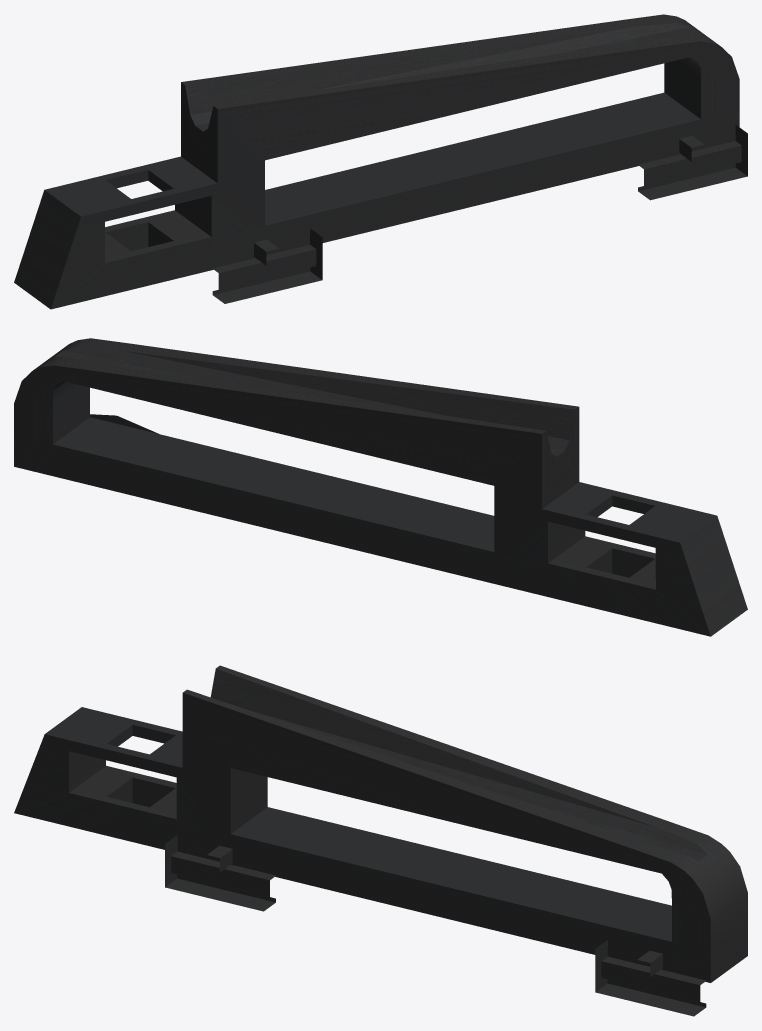
Rendered from Gun_Carrying_Handle.dae.
3 views of the same model, one above another, from view 1: azimuth 30°, elevation 25°; view 2: azimuth 150°, elevation 25°; view 3: azimuth 330°, elevation 25° (orthographic).
Parts seen in each view (by area): view 1: Gun_Carrying_Handle; view 2: Gun_Carrying_Handle; view 3: Gun_Carrying_Handle.
Boxes of the visible parts, left/top/right/bottom form: Gun_Carrying_Handle: left=14, top=14, right=747, bottom=309; Gun_Carrying_Handle: left=14, top=338, right=747, bottom=636; Gun_Carrying_Handle: left=14, top=665, right=747, bottom=1016.
Size of the model in its own units: 0.1763 by 0.0218 by 0.0452.
Materials: 1 (1 with a texture image).
